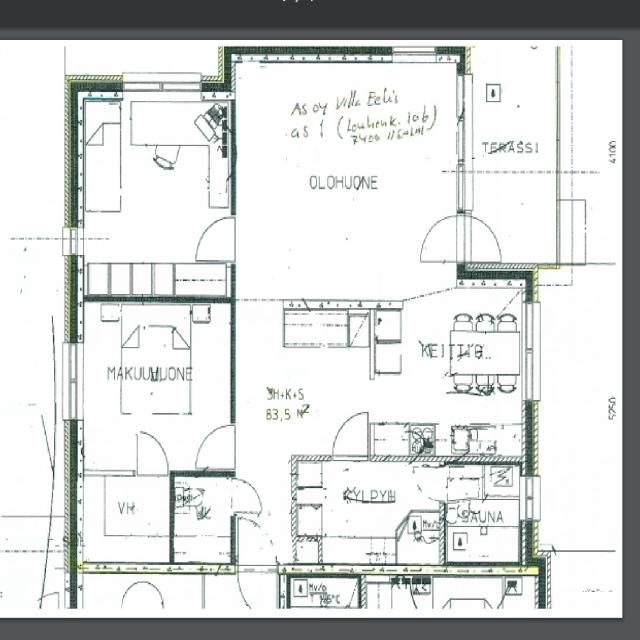door: (457, 214, 507, 261), (238, 562, 277, 622), (421, 214, 470, 261), (238, 514, 277, 572), (333, 409, 369, 462), (195, 216, 236, 261), (196, 424, 236, 468), (137, 431, 168, 476), (230, 479, 262, 512), (414, 466, 445, 499)
